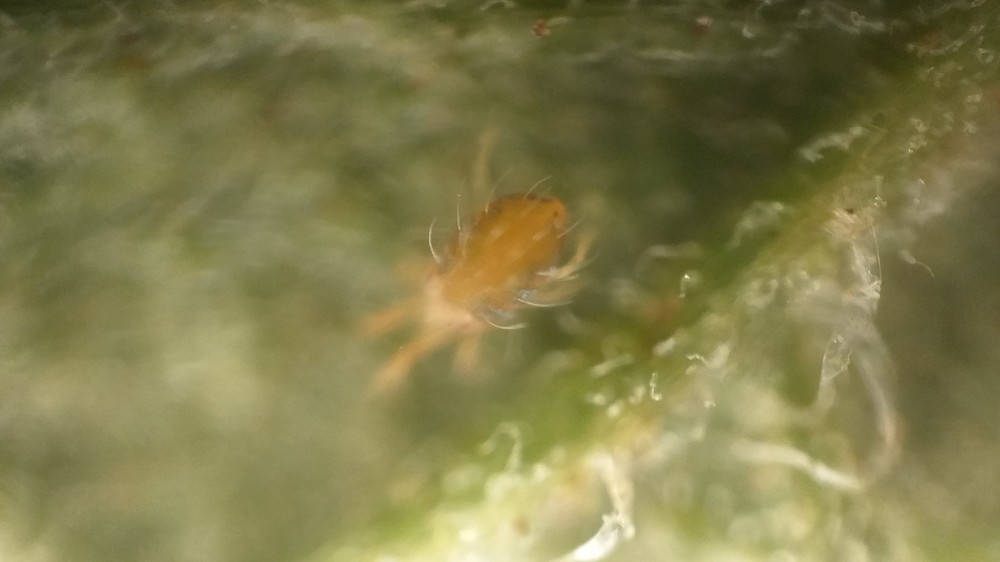Aracnido Rojo: (341, 149, 630, 406)
